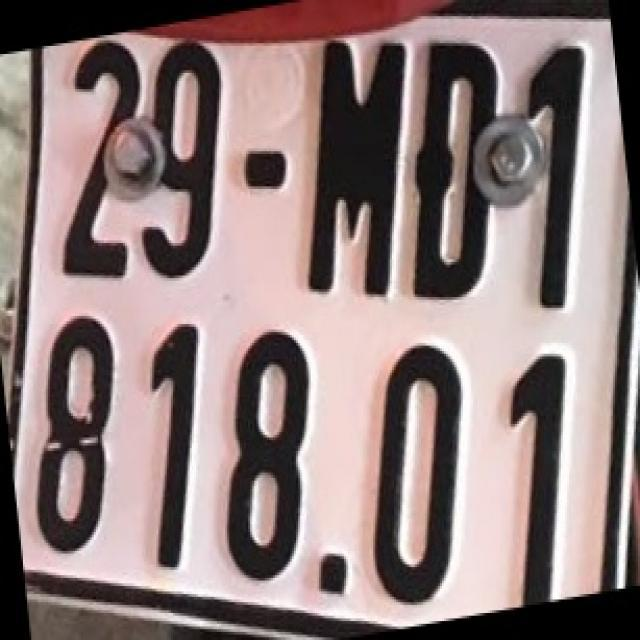0: (365, 334, 469, 608)
1: (514, 28, 600, 328), (501, 348, 574, 608), (140, 316, 207, 575)
2: (58, 38, 136, 284)
8: (219, 318, 315, 586), (31, 313, 117, 559)
9: (142, 38, 224, 284)
D: (412, 19, 507, 305)
M: (306, 21, 410, 302)
